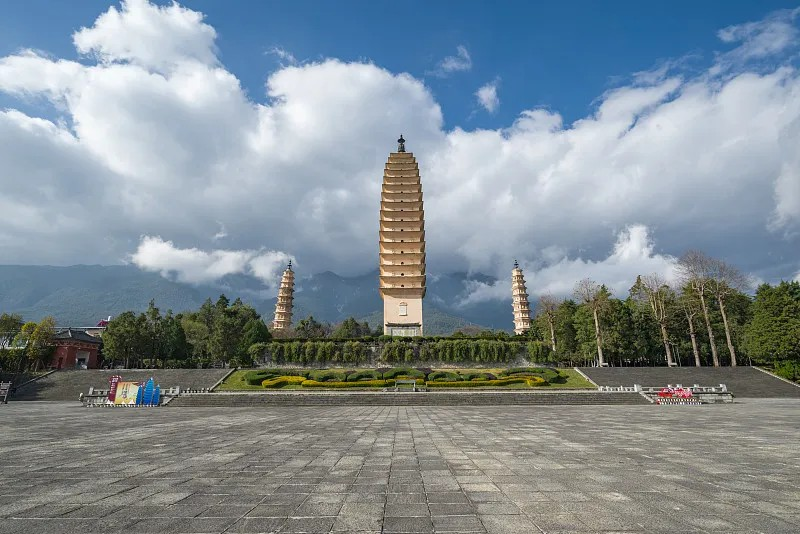ThreePagoda: (377, 135, 426, 338)
